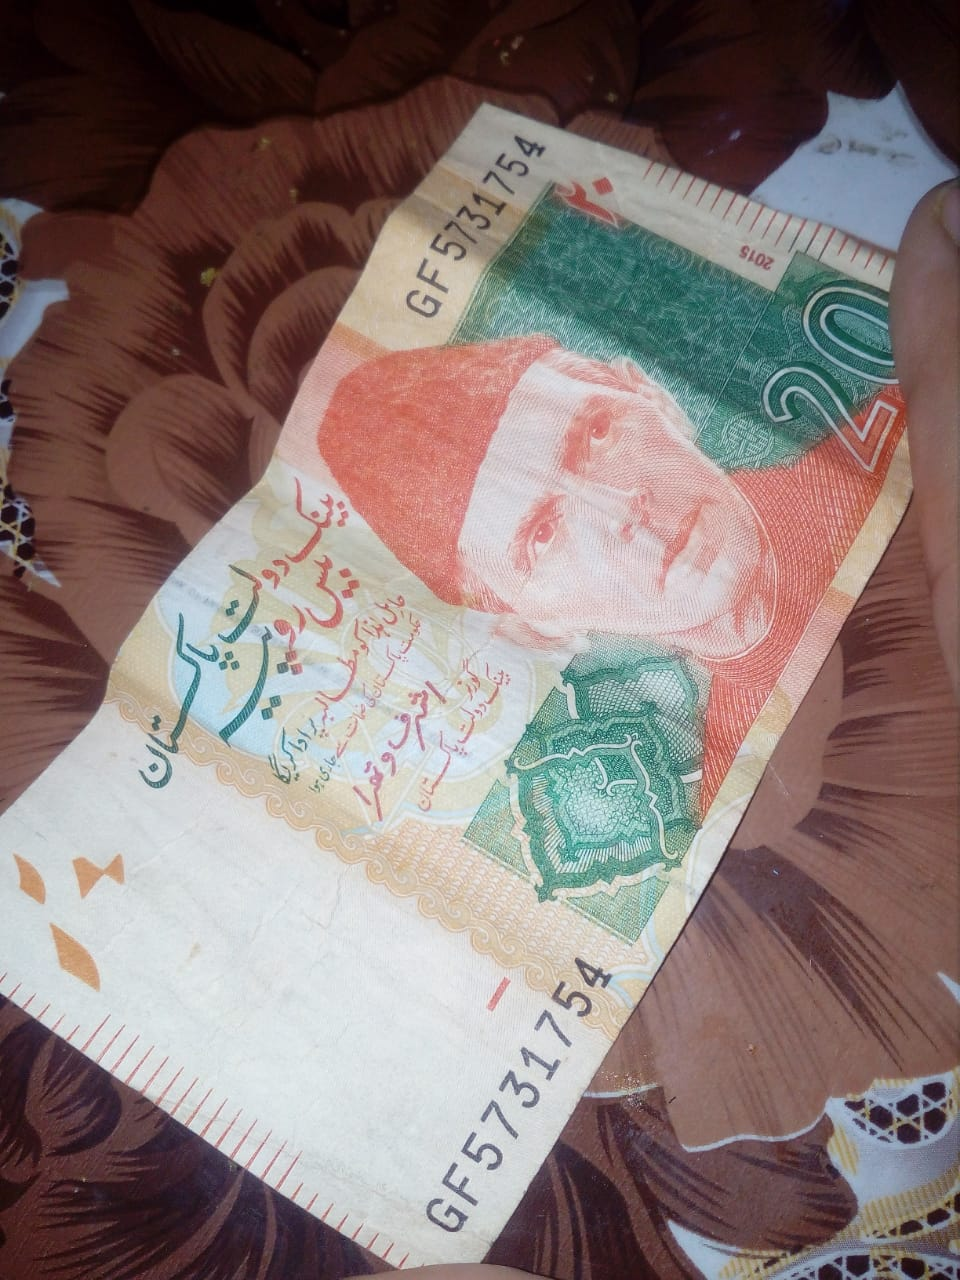20 rupee: (0, 93, 935, 1239)
